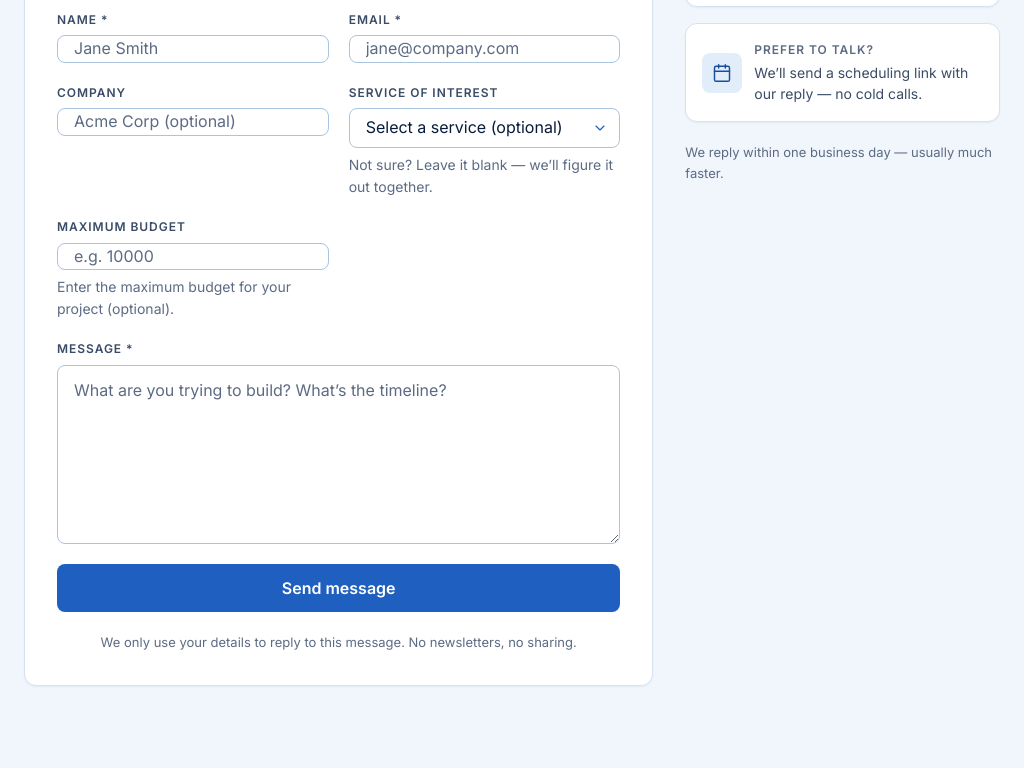
it: Contact page › shows field-level errors when submitting an empty form
(page scrolled)
Step 1. Click the button "Send message" → (339, 588), box x1=57 y1=564 x2=620 y2=612
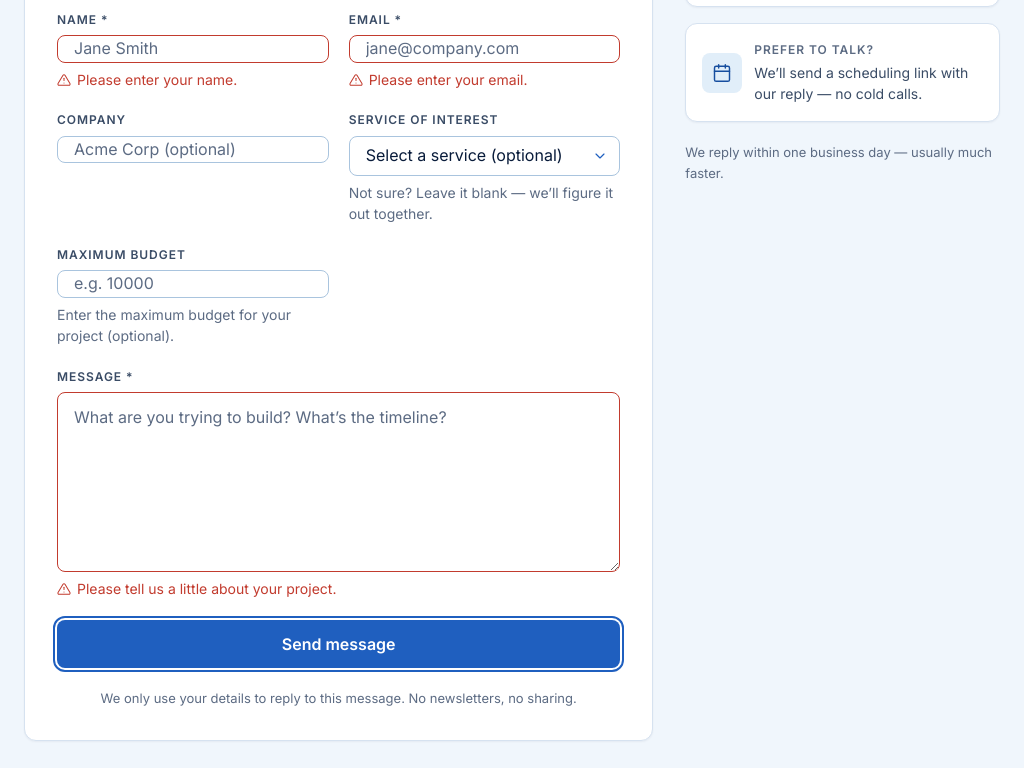
Result: the text "Please enter your name." is shown at x1=57 y1=71 x2=237 y2=88
Result: the text "Please enter your email." is shown at x1=349 y1=71 x2=528 y2=88
Result: the text "Please tell us a little about your project." is shown at x1=57 y1=580 x2=336 y2=597
